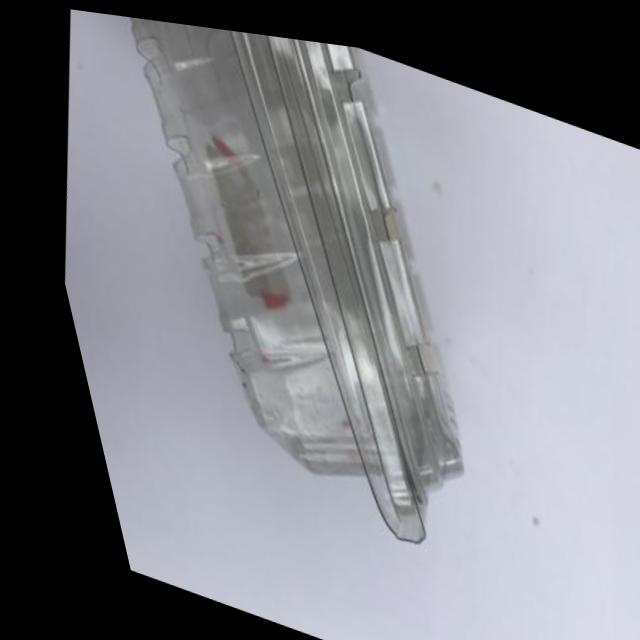plastic: (0, 0, 610, 634)
